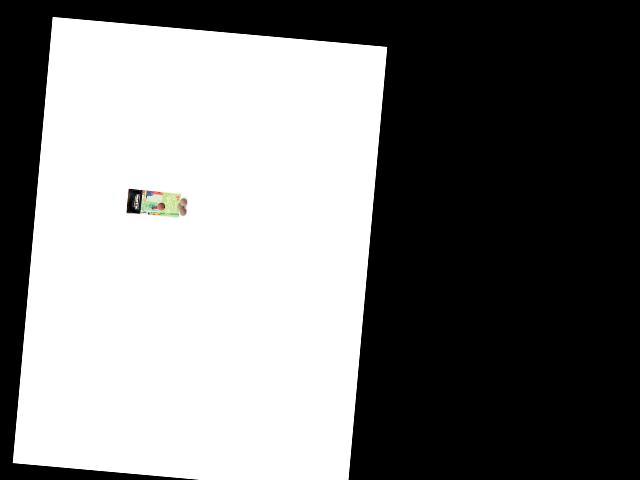chocolate: (123, 185, 182, 223)
